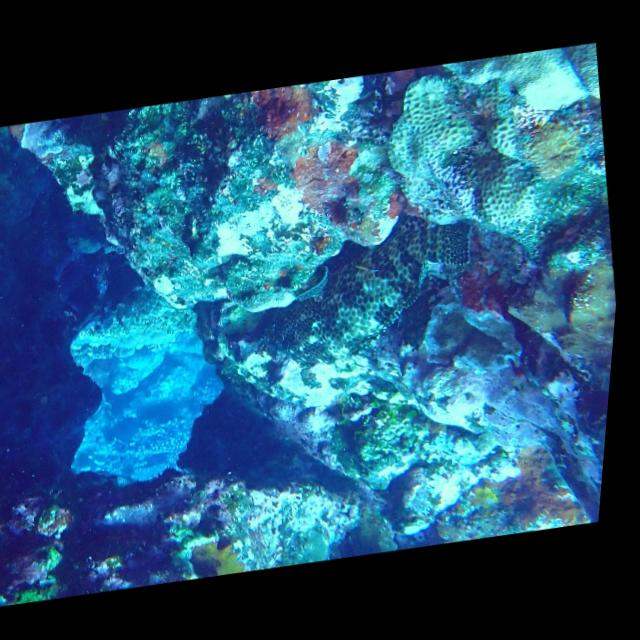Groupers: (255, 195, 492, 376)
